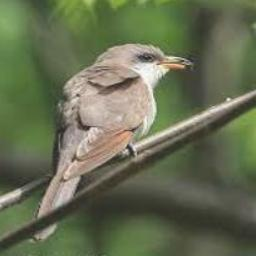Cuckoo: (30, 44, 192, 244)
